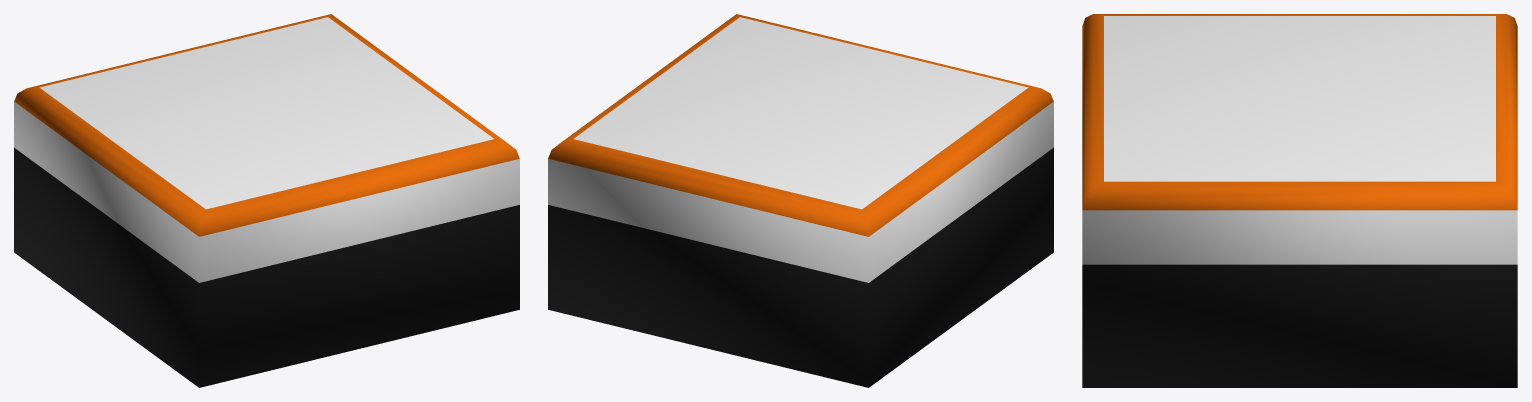
Rendered from Tile-Training.fbx.
3 renders of one model, left to right at view 1: azimuth 30°, elevation 25°; view 2: azimuth 150°, elevation 25°; view 3: azimuth 270°, elevation 25°, orthographic. The views are drawn at different scales.
Parts seen in each view (by area): view 1: Floor2; view 2: Floor2; view 3: Floor2.
Part boxes in pixels (x1=…): Floor2: x1=14, y1=14, x2=519, y2=387; Floor2: x1=548, y1=14, x2=1053, y2=387; Floor2: x1=1082, y1=14, x2=1517, y2=387.
Size of the model in its own units: 100 by 50 by 100.
